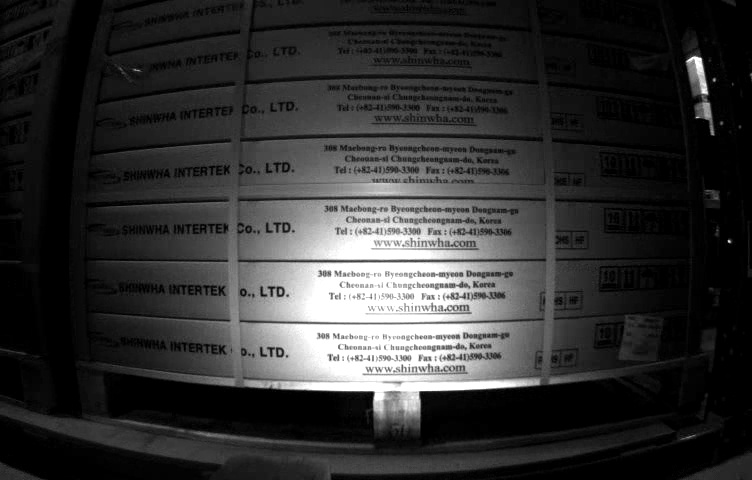True Barcode: (619, 314, 662, 364)
